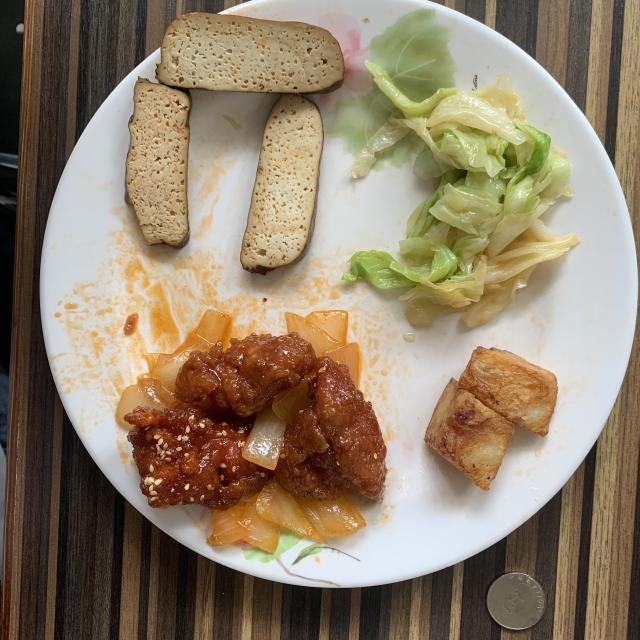cabbage: (342, 61, 579, 328)
coin: (486, 572, 545, 630)
firm tofu: (126, 12, 344, 274)
fried potato: (425, 346, 558, 490)
